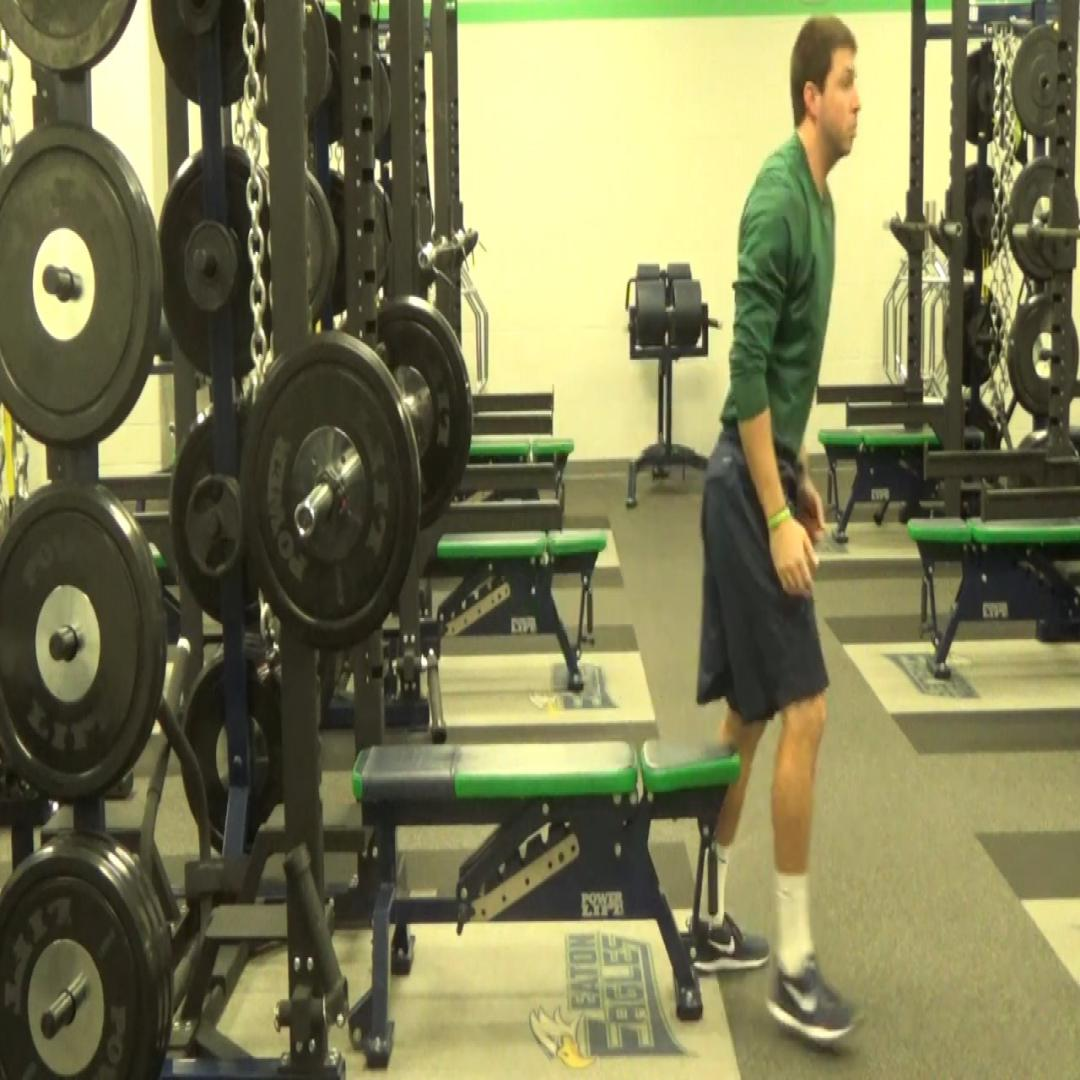Bar: (294, 501, 316, 537)
Barbell: (239, 342, 420, 652)
